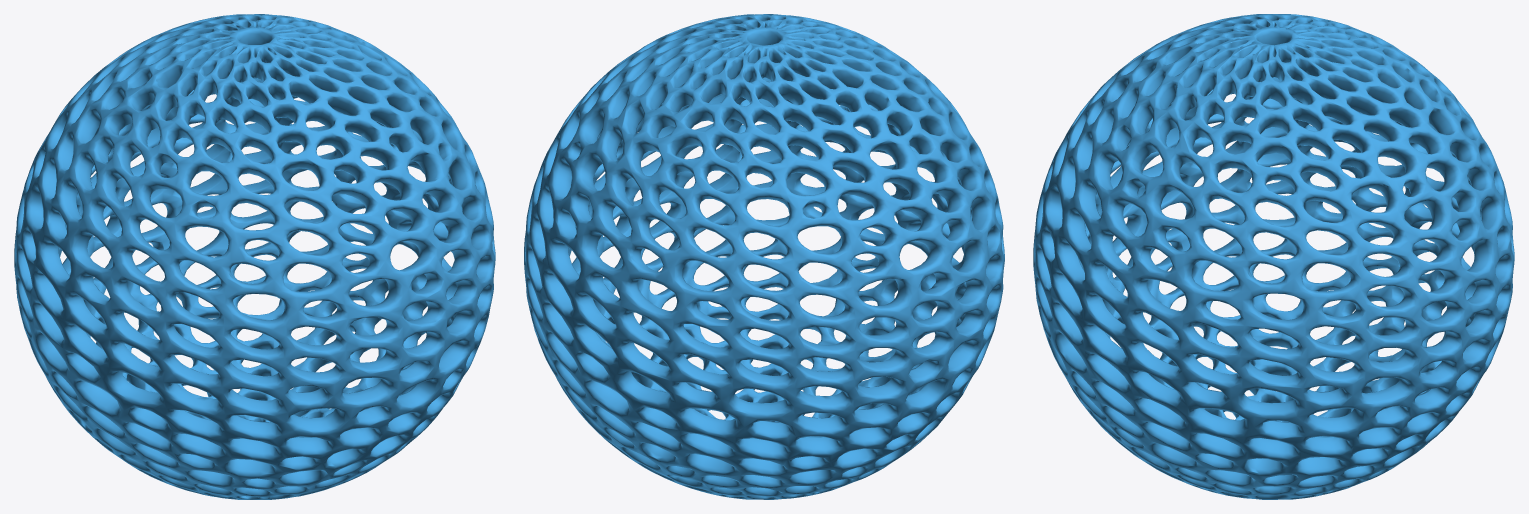
File: decorative_sphere.glb
The picture shows the model from 3 angles, left to right: view 1: azimuth 30°, elevation 25°; view 2: azimuth 150°, elevation 25°; view 3: azimuth 270°, elevation 25°; orthographic projection.
Visible parts, largest first — view 1: decorative_sphere_target; view 2: decorative_sphere_target; view 3: decorative_sphere_target.
Boxes of the visible parts, left/top/right/bottom form: decorative_sphere_target: left=14, top=14, right=495, bottom=499; decorative_sphere_target: left=524, top=14, right=1004, bottom=499; decorative_sphere_target: left=1033, top=14, right=1514, bottom=499.
Size of the model in its own units: 0.2854 by 0.2881 by 0.2854.
